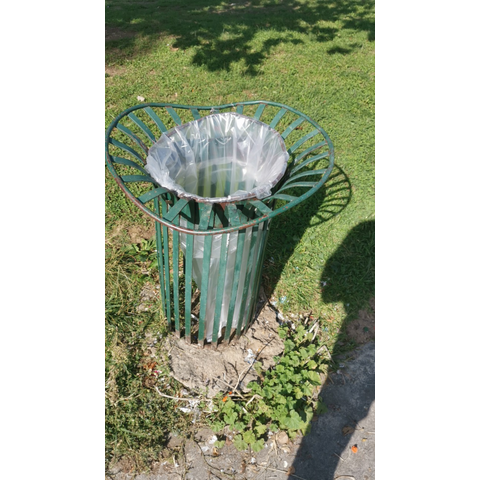poubelle: (104, 94, 343, 366)
